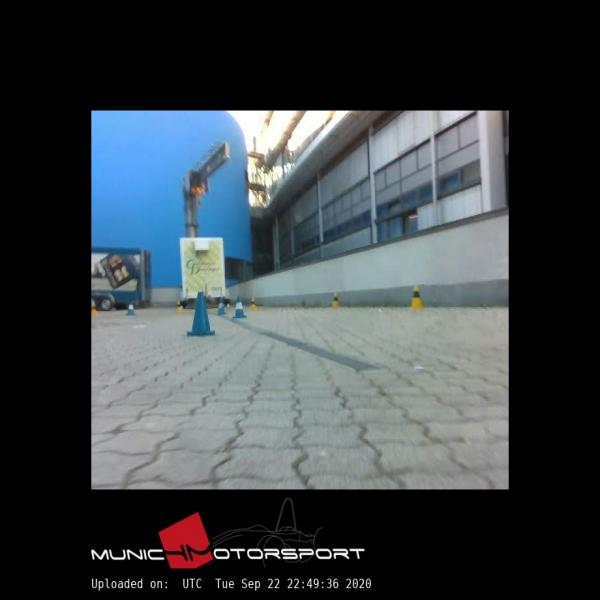blue_cone: (187, 292, 215, 336), (234, 296, 247, 318), (216, 298, 227, 315), (126, 301, 136, 316)
yellow_cone: (410, 285, 423, 309), (331, 291, 340, 307), (250, 297, 257, 309), (91, 302, 97, 314), (176, 300, 182, 311)
